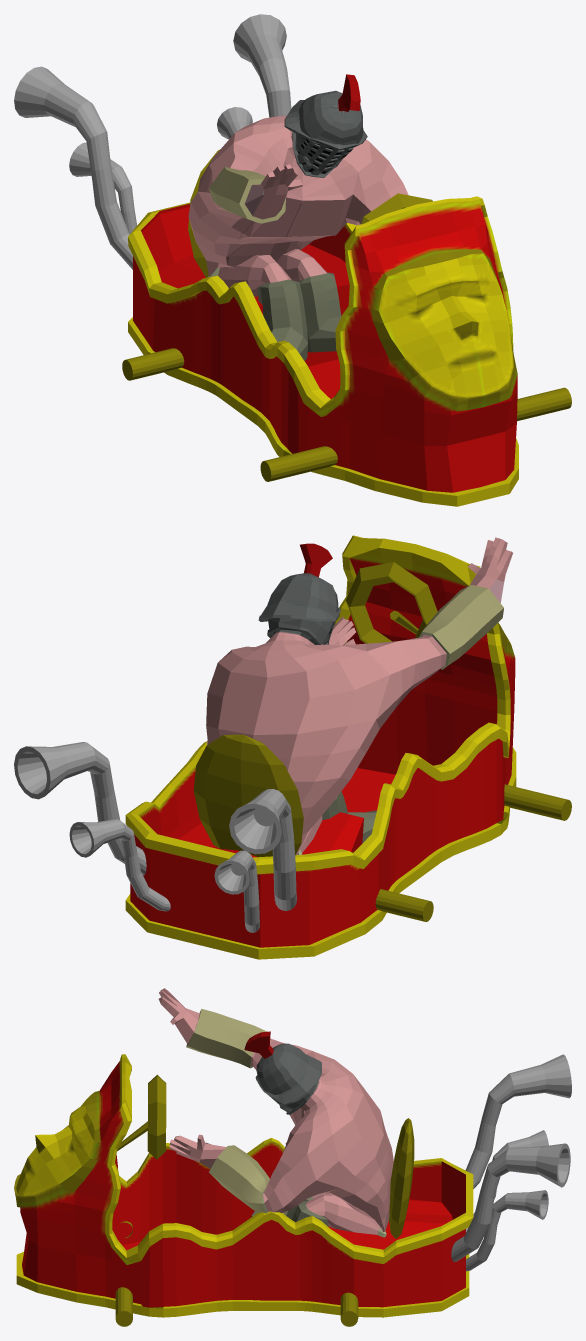
Rendered from GladiLanzamiento_000524.obj.
3 renders of one model, top to bottom at view 1: azimuth 30°, elevation 25°; view 2: azimuth 150°, elevation 25°; view 3: azimuth 270°, elevation 25°, orthographic. The views are drawn at different scales.
Parts seen in each view (by area): view 1: GladiChasis_GladiChasisH, Gadiador_Gladiador_H.001, GladiTubos_GladiTubosH, GladiVolante_GladiVolanteH; view 2: GladiChasis_GladiChasisH, Gadiador_Gladiador_H.001, GladiTubos_GladiTubosH, GladiVolante_GladiVolanteH; view 3: GladiChasis_GladiChasisH, Gadiador_Gladiador_H.001, GladiTubos_GladiTubosH, GladiVolante_GladiVolanteH.
Boxes of the visible parts, box(x1,y1,x2,y2) form: GladiChasis_GladiChasisH: box(128, 196, 518, 506); Gadiador_Gladiador_H.001: box(188, 74, 408, 360); GladiTubos_GladiTubosH: box(14, 14, 291, 269); GladiVolante_GladiVolanteH: box(122, 149, 571, 481); GladiChasis_GladiChasisH: box(125, 535, 516, 959); Gadiador_Gladiador_H.001: box(206, 537, 512, 855); GladiTubos_GladiTubosH: box(14, 742, 296, 932); GladiVolante_GladiVolanteH: box(193, 562, 571, 921); GladiChasis_GladiChasisH: box(14, 1054, 473, 1317); Gadiador_Gladiador_H.001: box(158, 988, 393, 1237); GladiTubos_GladiTubosH: box(451, 1054, 571, 1271); GladiVolante_GladiVolanteH: box(115, 1074, 414, 1326).
Bounding box in the file's own units: 5.46 × 5.33 × 10.78.
